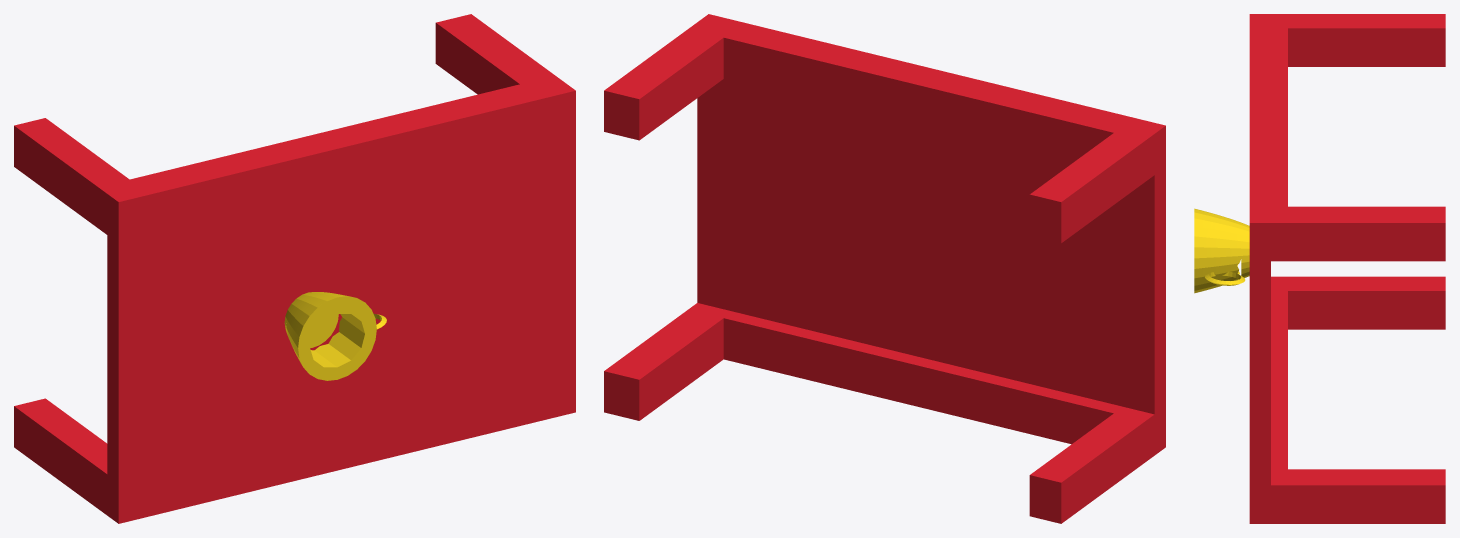
The model's file is tinker.obj.
3 views of the same model, side by side, from view 1: azimuth 30°, elevation 25°; view 2: azimuth 150°, elevation 25°; view 3: azimuth 270°, elevation 25° (orthographic). The views are drawn at different scales.
Parts seen in each view (by area): view 1: group_0_15277357, group_0_16768282; view 2: group_0_15277357; view 3: group_0_15277357, group_0_16768282.
Boxes of the visible parts, <box> form: group_0_15277357: <box>14,14,575,523</box>; group_0_16768282: <box>284,292,386,380</box>; group_0_15277357: <box>604,14,1165,523</box>; group_0_15277357: <box>1249,14,1445,523</box>; group_0_16768282: <box>1194,208,1249,293</box>.
Size of the model in its own units: 116 by 78 by 59.
